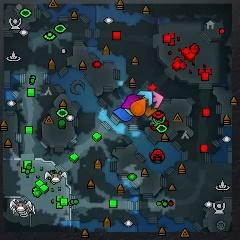p1: (112, 107, 132, 122)
p2: (124, 108, 132, 116)
p3: (122, 93, 139, 110)
p5: (130, 98, 146, 115)
x1: (151, 91, 164, 109)
x3: (138, 90, 153, 106)
x5: (144, 104, 155, 118)
